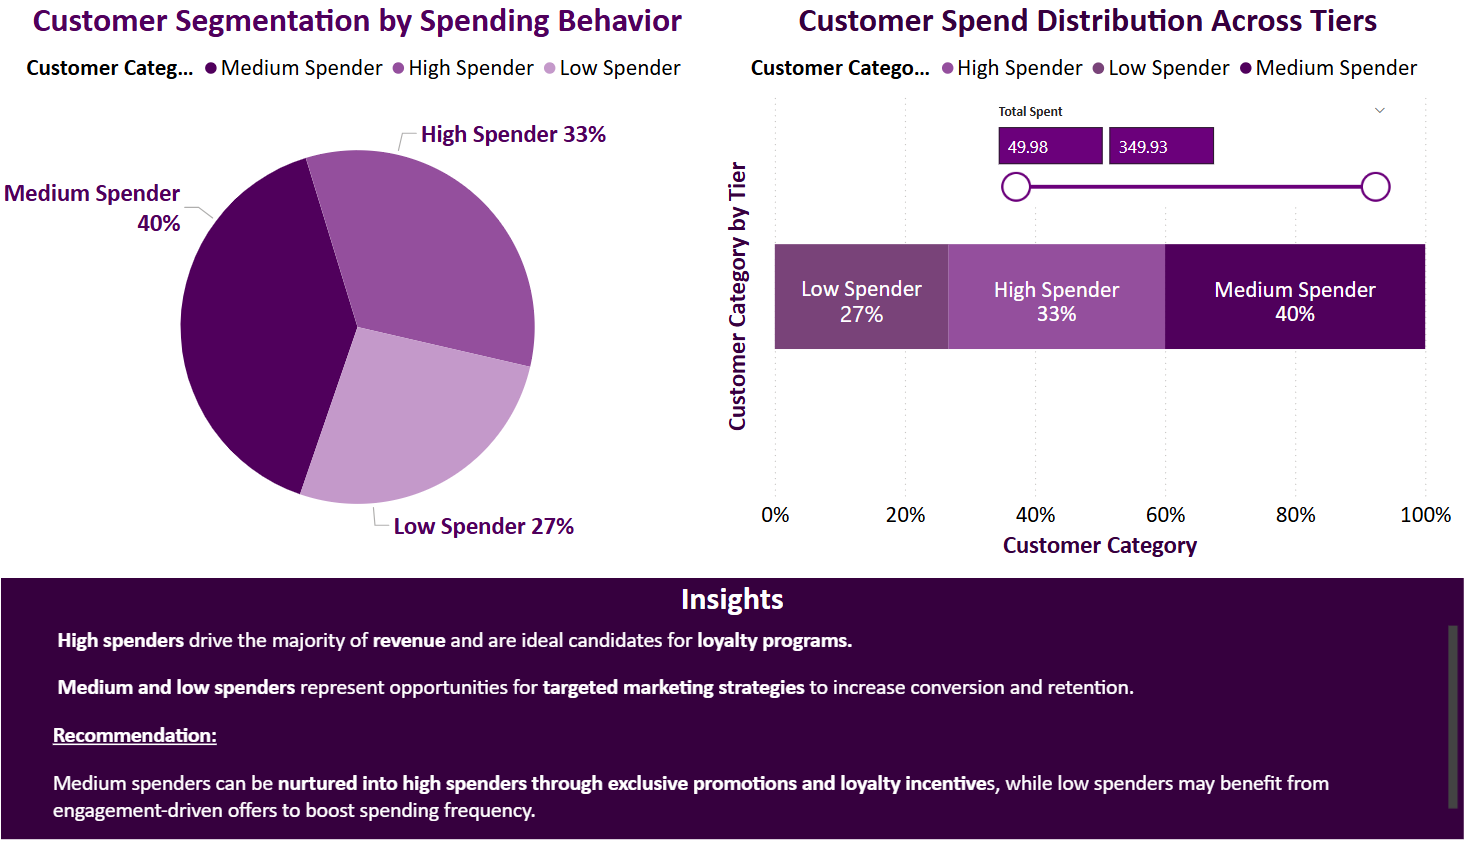

The dashboard page shown, as its layout file describes it:
{"tool":"powerbi","page":{"name":"Customer_Spend Insights","canvas":[1280,720],"ordinal":5},"visuals":[{"type":"pieChart","title":"Customer Segmentation by Spending Behavior ","fields":{"Category":["Customer Segmentation.CustomerCategory"],"Y":["CountNonNull(Customer Segmentation.CustomerCategory)"]},"box":[10.5,0,628.9,492.9],"z":0},{"type":"hundredPercentStackedBarChart","title":"Customer Spend Distribution Across Tiers","fields":{"Series":["Customer Segmentation.CustomerCategory"],"Y":["CountNonNull(Customer Segmentation.CustomerCategory)"]},"box":[639.4,0,640.9,492.4],"z":1000},{"type":"textbox","title":"Insights","box":[10.5,492.9,1269.7,227.1],"z":2000},{"type":"slicer","fields":{"Values":["Customer Segmentation.Total Spent"]},"box":[867.9,97.1,361.5,95.6],"z":3000}]}

Visuals, with their boxes in screenshot pixels (x1, y1, x2, y2), scaled from the page's 1280x720 canvas onto the 1466x843 screenshot:
"Customer Segmentation by Spending Behavior " pieChart: bbox=(12, 0, 732, 577)
"Customer Spend Distribution Across Tiers" hundredPercentStackedBarChart: bbox=(732, 0, 1465, 577)
"Insights" textbox: bbox=(12, 577, 1465, 842)
slicer - Customer Segmentation.Total Spent: bbox=(994, 114, 1408, 226)
